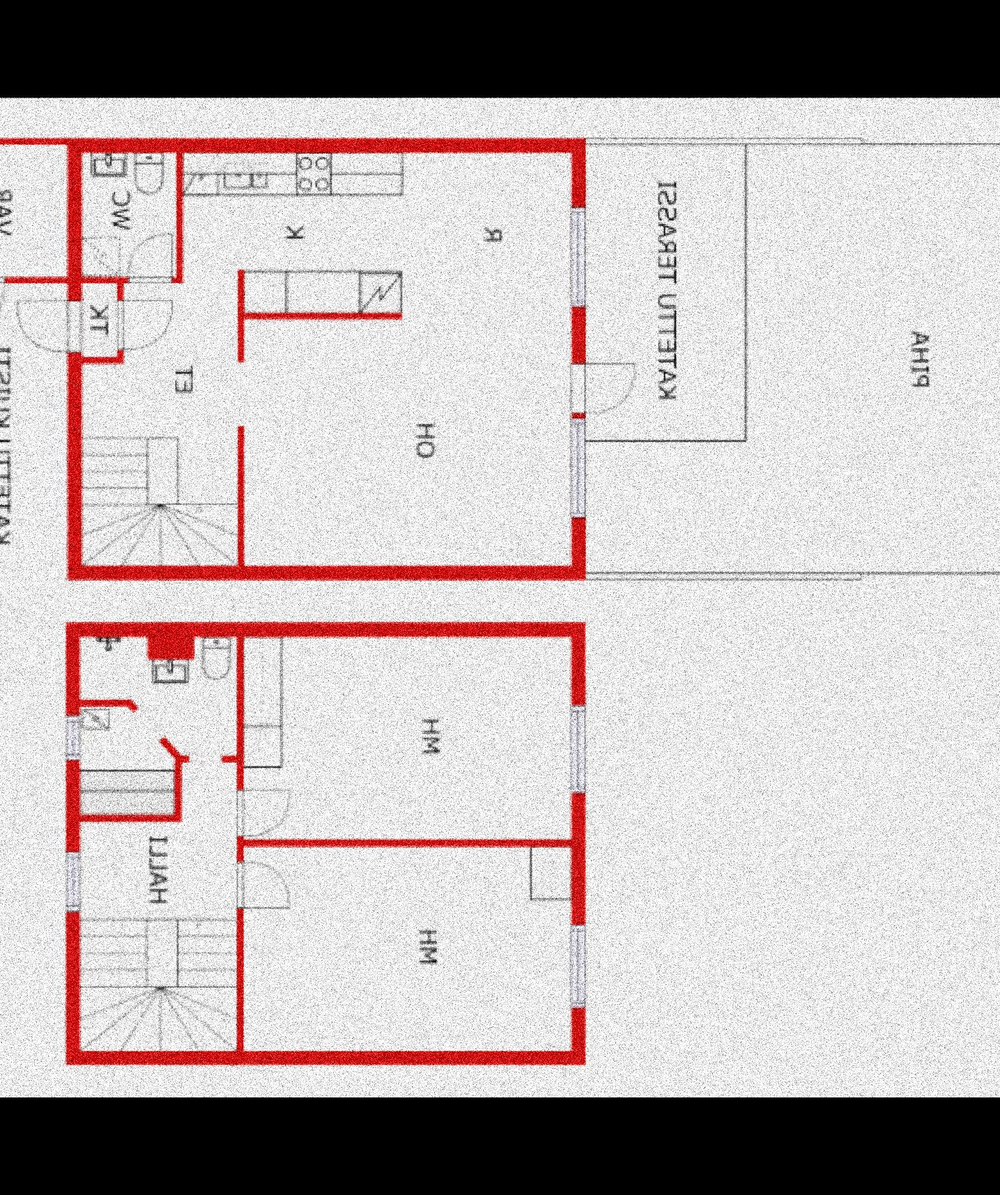door: (81, 153, 574, 566), (585, 151, 742, 442), (85, 156, 172, 276), (0, 141, 68, 277), (111, 298, 184, 356), (231, 858, 296, 918), (569, 357, 632, 418), (17, 303, 80, 353), (233, 789, 291, 842), (123, 226, 176, 283)
window: (570, 701, 593, 792), (570, 415, 590, 518), (569, 206, 587, 311), (568, 925, 585, 1008), (62, 847, 82, 913), (68, 712, 79, 762)
zone: (592, 150, 1000, 566), (240, 636, 575, 842), (243, 849, 580, 1047), (82, 638, 238, 1048)
